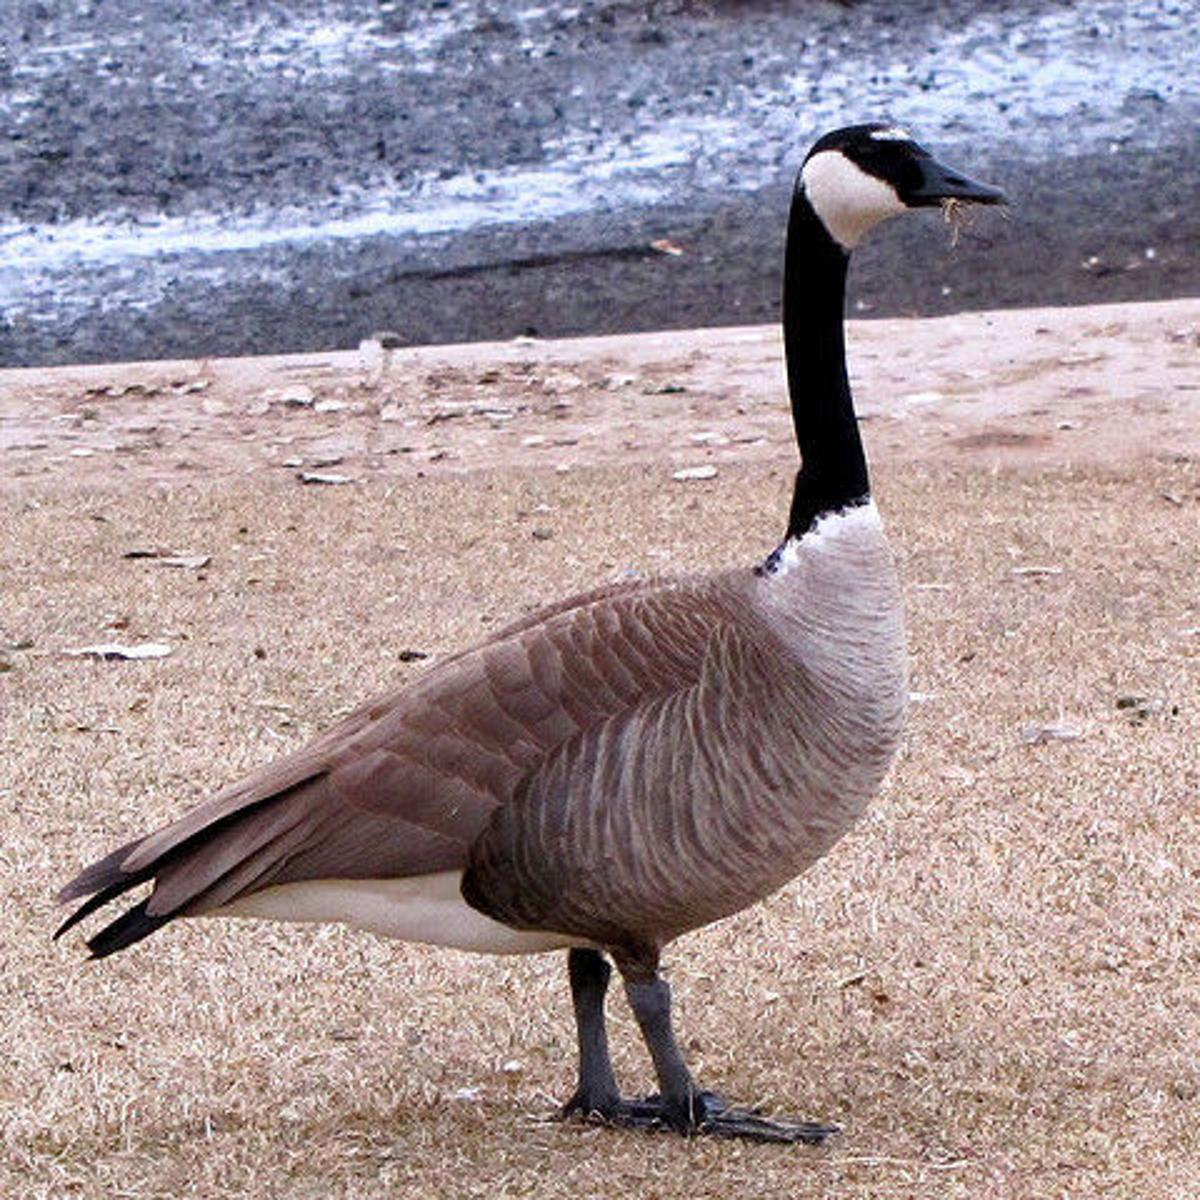goose: (38, 119, 1013, 1148)
